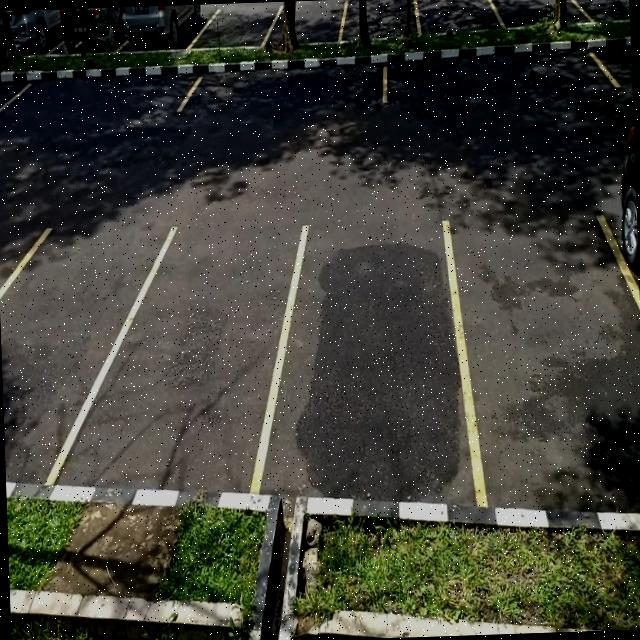empty: (447, 212, 640, 515), (282, 215, 468, 510), (104, 220, 296, 501), (0, 221, 119, 484), (381, 46, 609, 108), (180, 54, 388, 115), (5, 62, 184, 122), (200, 1, 279, 51), (272, 0, 343, 47), (341, 0, 416, 41), (415, 0, 494, 36), (491, 0, 578, 27), (574, 0, 629, 24)
occupied: (116, 4, 205, 53), (58, 7, 122, 56)
